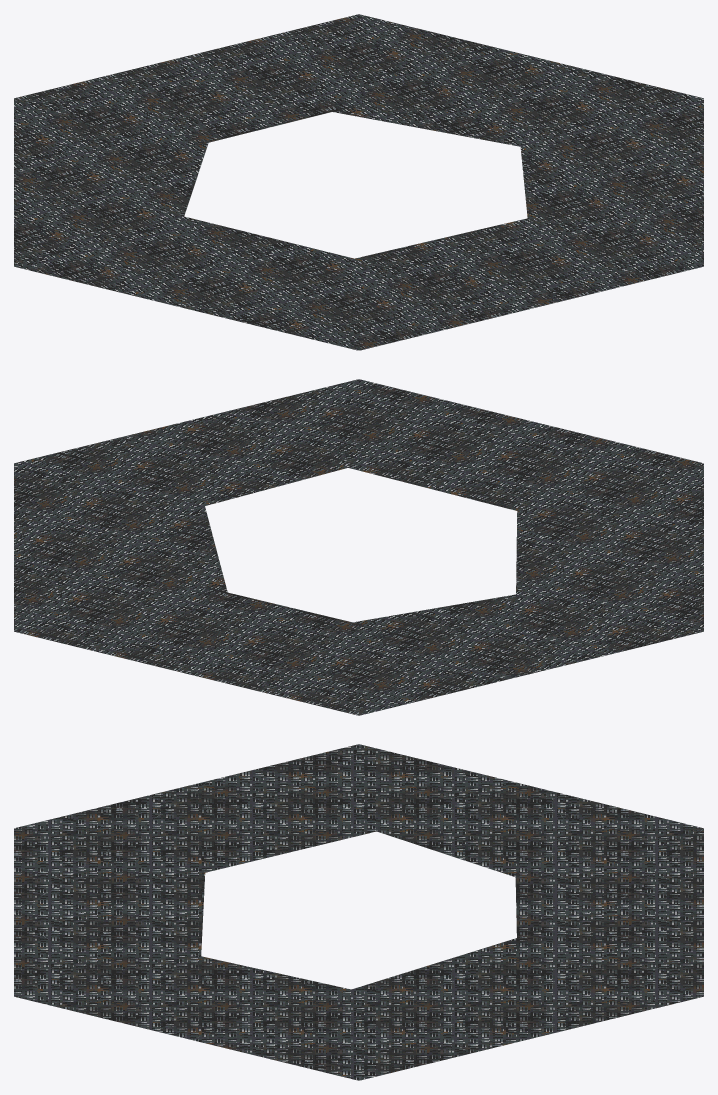
Rendered from Polizei_BodenKerker_2562.glb.
The picture shows the model from 3 angles, top to bottom: view 1: azimuth 30°, elevation 25°; view 2: azimuth 150°, elevation 25°; view 3: azimuth 270°, elevation 25°; orthographic projection.
Parts seen in each view (by area): view 1: polySurfaceShape1065; view 2: polySurfaceShape1065; view 3: polySurfaceShape1065.
Part boxes in pixels (x1,y1,x2,y2): polySurfaceShape1065: (14, 14, 703, 350); polySurfaceShape1065: (14, 379, 703, 715); polySurfaceShape1065: (14, 744, 703, 1080).
Bounding box in the file's own units: 1.66 × 6.27e-08 × 1.44.
1 material, 1 textured.
